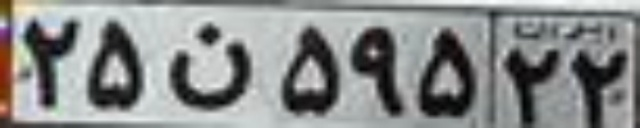2: (23, 19, 78, 106), (568, 47, 627, 127), (502, 48, 558, 126)
5: (410, 26, 478, 115), (81, 18, 147, 108), (276, 24, 340, 116)
9: (346, 26, 407, 116)
non: (163, 20, 253, 111)
